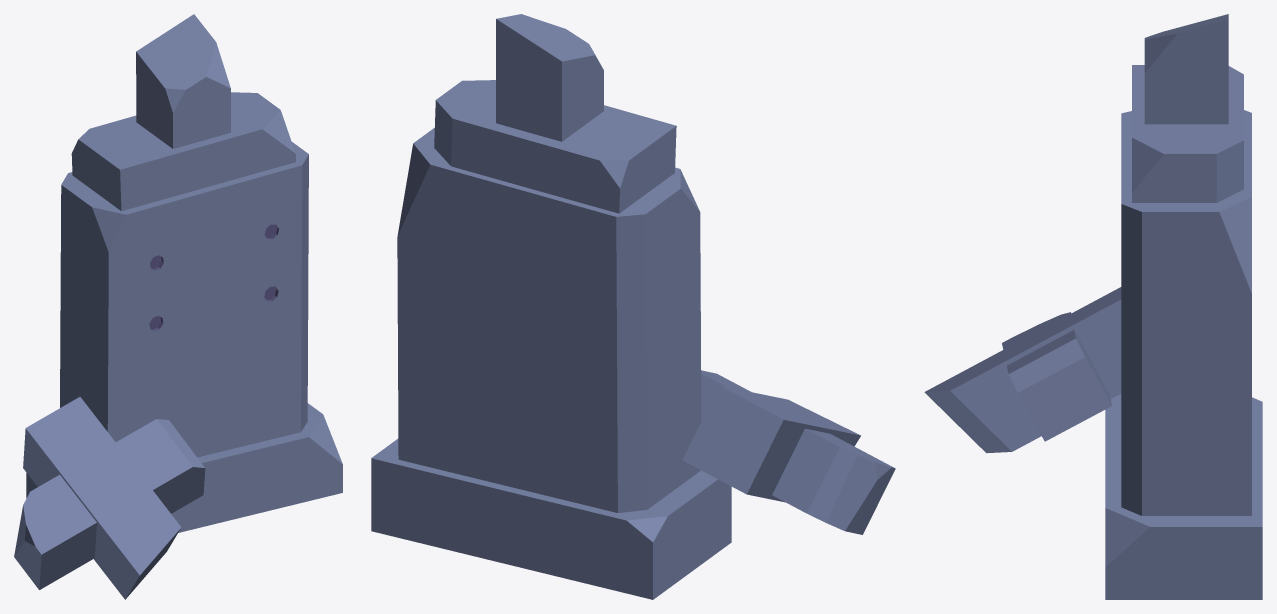
The model's file is Toombstone_07.fbx.
3 renders of one model, left to right at view 1: azimuth 30°, elevation 25°; view 2: azimuth 150°, elevation 25°; view 3: azimuth 270°, elevation 25°, orthographic. The views are drawn at different scales.
Parts seen in each view (by area): view 1: Toombstone 7; view 2: Toombstone 7; view 3: Toombstone 7.
Part boxes in pixels (<box>): Toombstone 7: <box>14,14,342,599</box>; Toombstone 7: <box>371,14,895,599</box>; Toombstone 7: <box>924,14,1262,599</box>.
Size of the model in its own units: 139 by 178 by 103.
